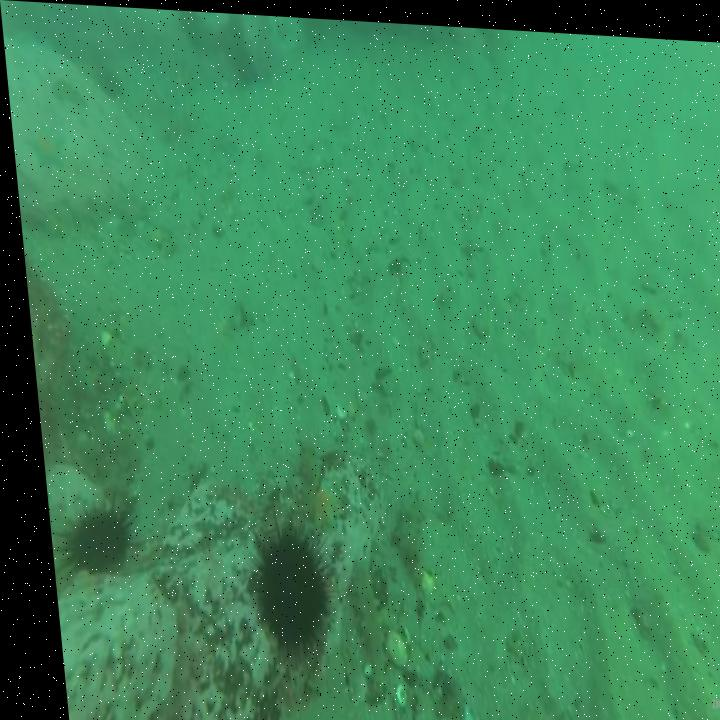echinus: (241, 530, 320, 646), (53, 506, 118, 572)
holothurian: (338, 560, 378, 694), (285, 430, 315, 514)
starfish: (24, 123, 65, 170), (299, 483, 330, 522)
